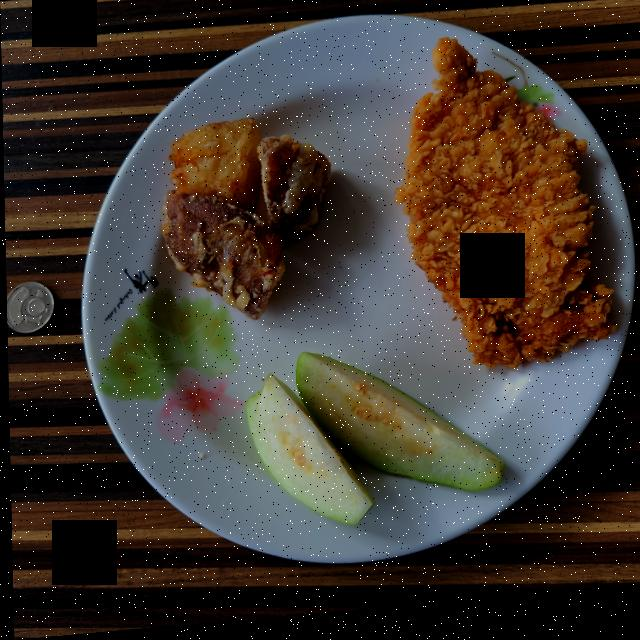coin: (5, 281, 53, 333)
fried chicken cutlet: (395, 45, 615, 377)
fried potato: (160, 122, 330, 323)
guava -sliced-: (244, 357, 502, 531)
